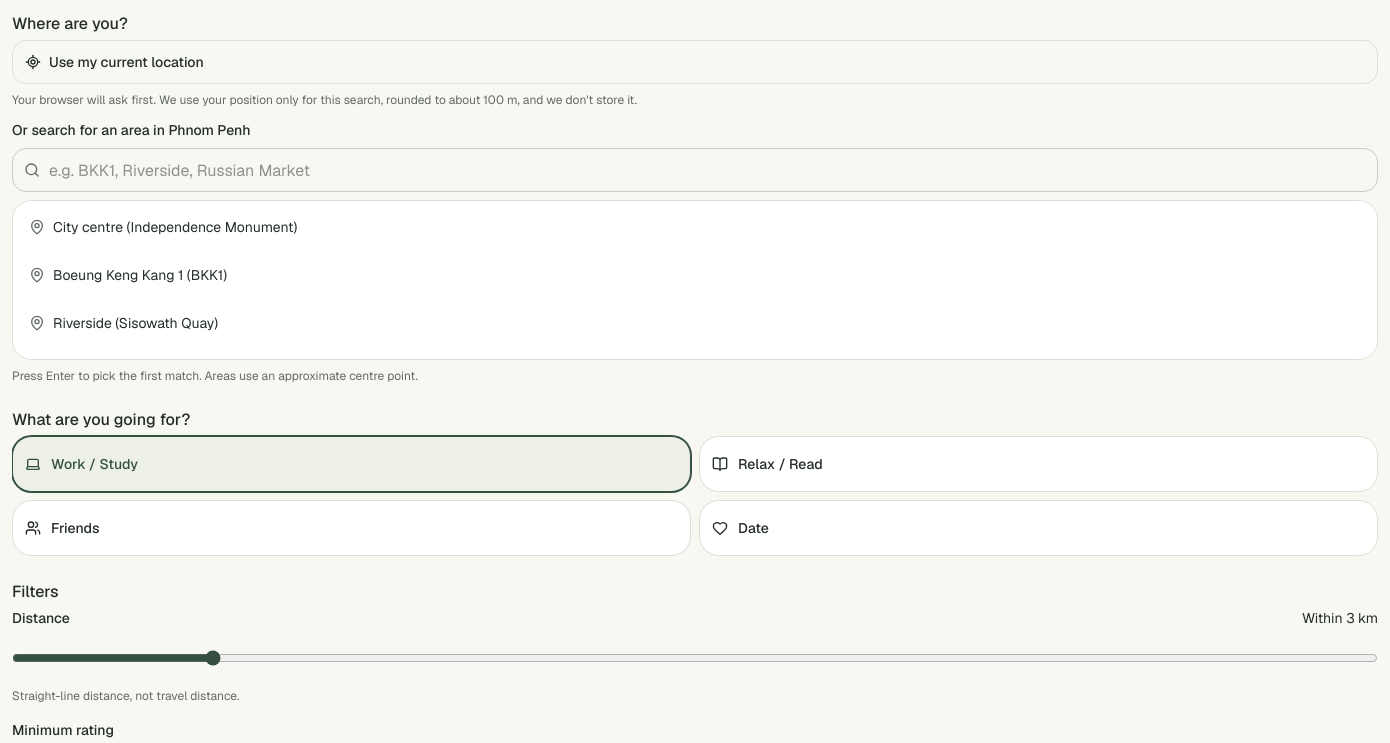
Test: DiscoveryForm › picks the first matching area on Enter instead of submitting
This screenshot has width=1390, height=743.
In the search field: (695, 170) [12, 148, 1378, 192], type "river"
Then press Enter
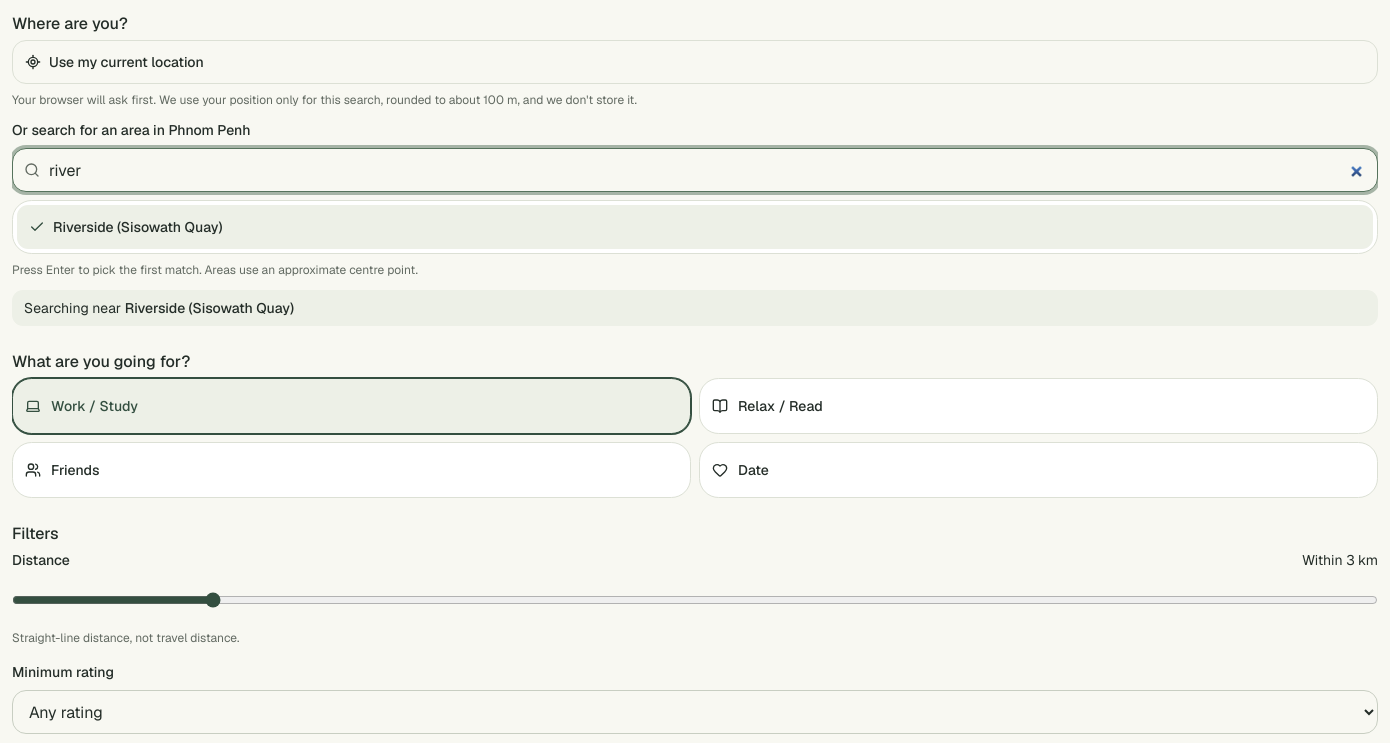
Check: the element with test id "selected-location" shows "Riverside", box [125, 299, 294, 317]
